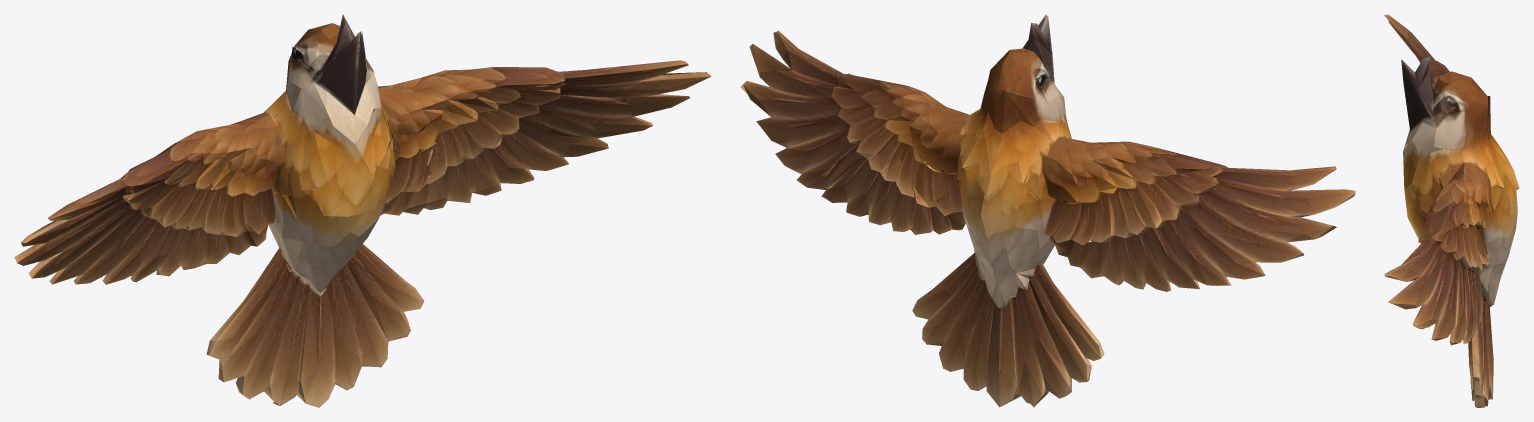
File: CRT-002.glb
3 views of the same model, side by side, from view 1: azimuth 30°, elevation 25°; view 2: azimuth 150°, elevation 25°; view 3: azimuth 270°, elevation 25° (orthographic). The views are drawn at different scales.
Visible parts, largest first — view 1: CRT-002; view 2: CRT-002; view 3: CRT-002.
Part boxes in pixels (box(x1,y1,x2,y2)): CRT-002: box(14, 14, 711, 407); CRT-002: box(740, 14, 1355, 407); CRT-002: box(1384, 14, 1519, 407).
Size of the model in its own units: 0.4201 by 0.24 by 0.0854.
1 material, 1 textured.
